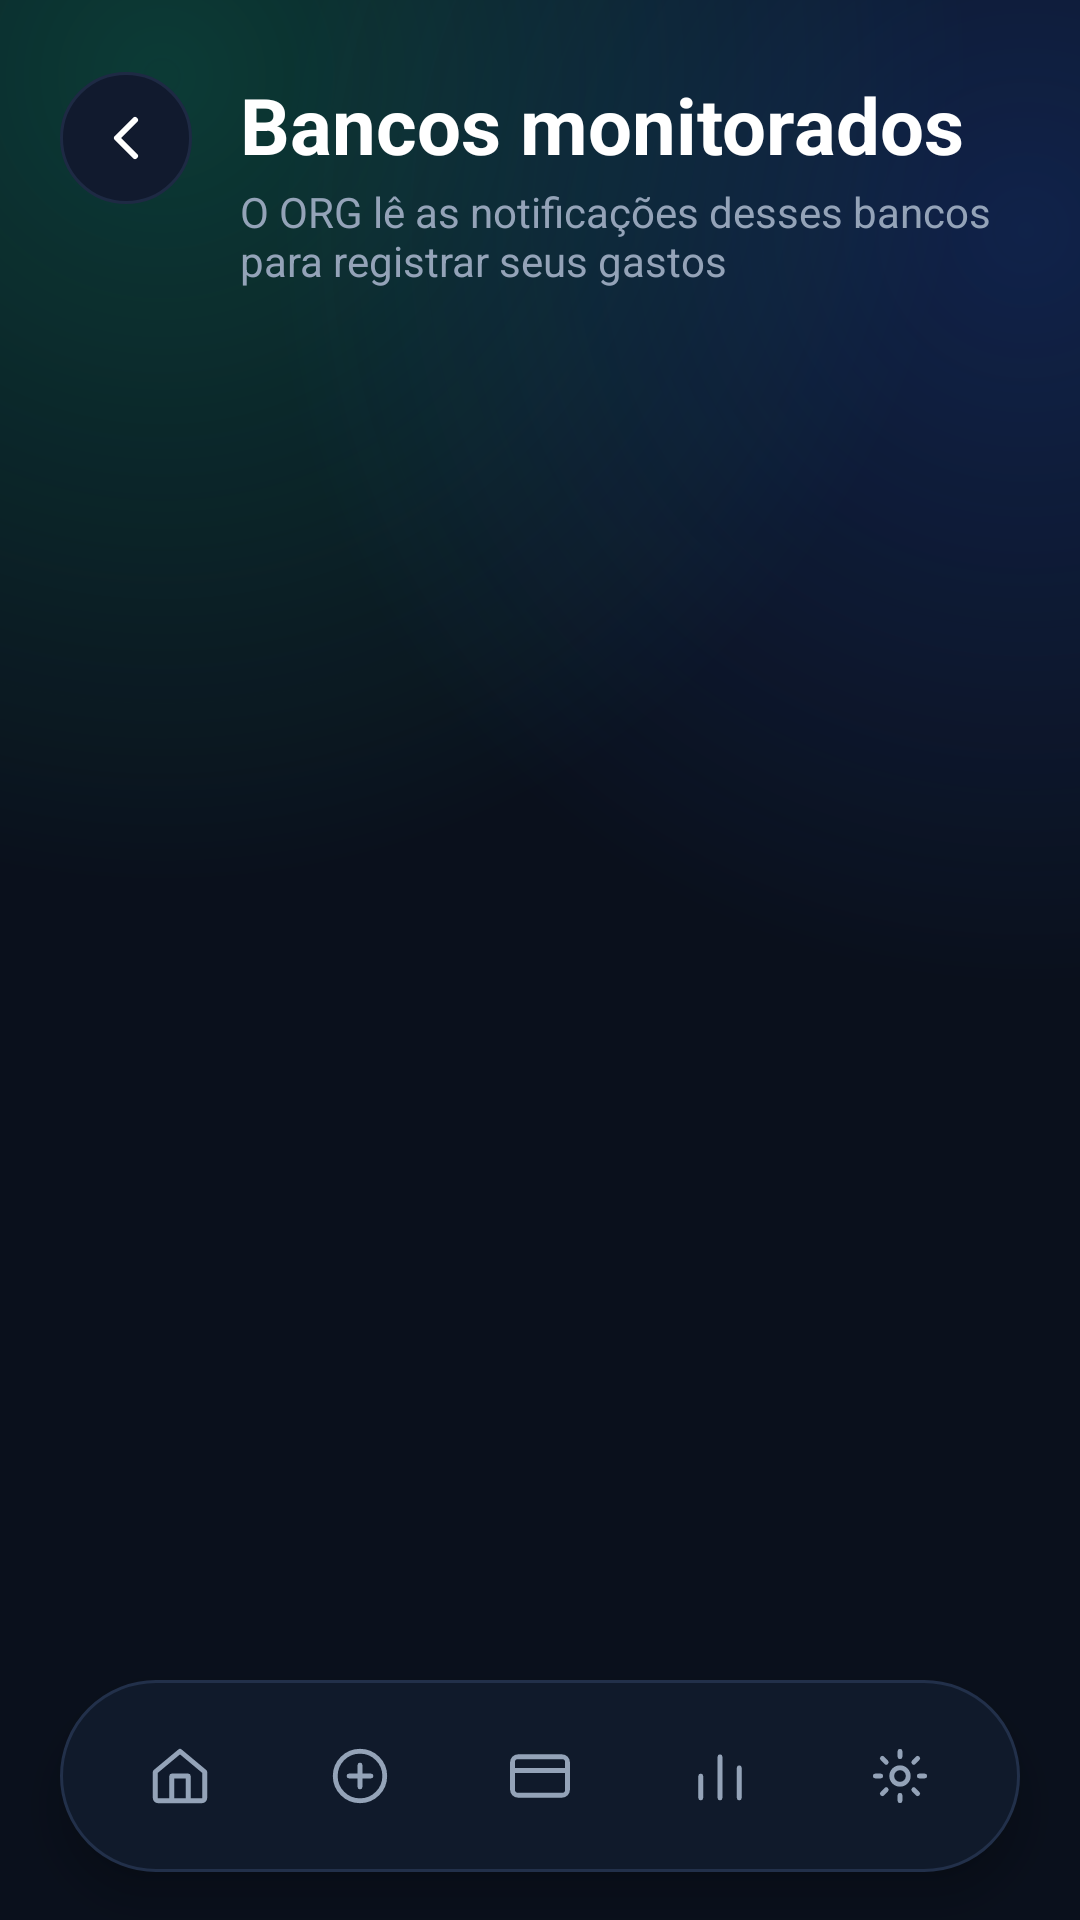

Named icons in this screenshot (1080 × 1920) and their bounding boxes, rect(x1, y1, x2, y2):
add: rect(333, 1749, 387, 1803)
card: rect(510, 1754, 570, 1798)
chart: rect(698, 1754, 742, 1801)
home: rect(152, 1749, 208, 1804)
Voltar: rect(63, 75, 189, 201)
